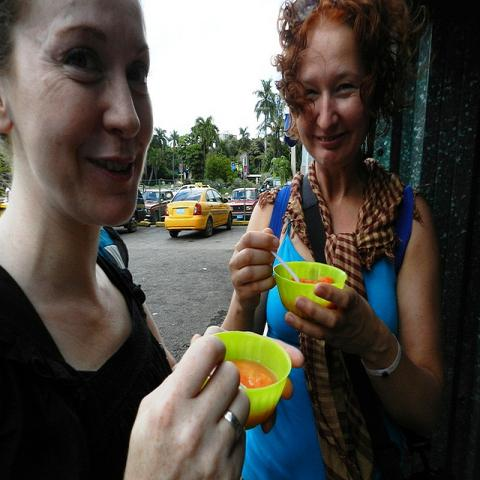car: (166, 184, 234, 238), (141, 188, 174, 223), (228, 188, 260, 220), (122, 188, 145, 232)
